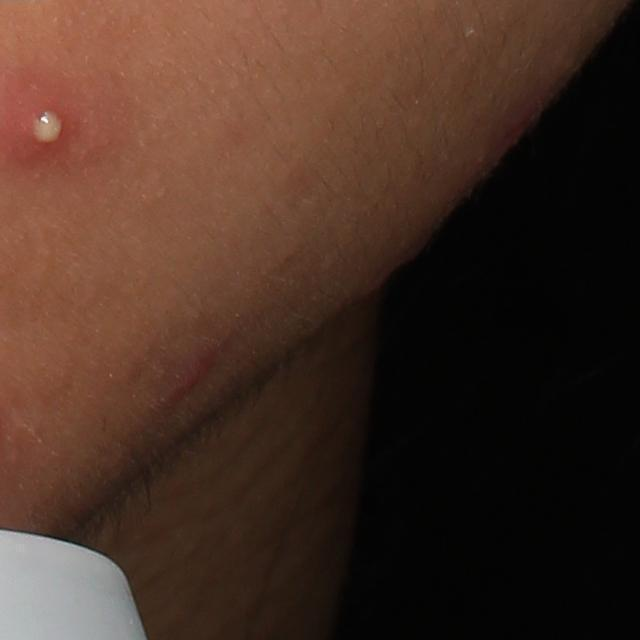papule: (167, 352, 220, 402)
pustule: (15, 78, 78, 163)
